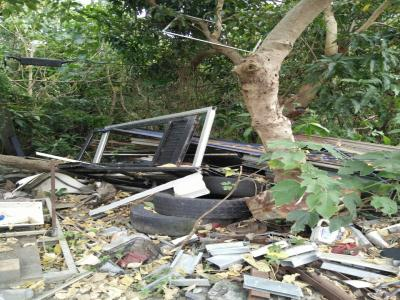tire: (129, 202, 220, 236), (153, 192, 252, 221), (202, 172, 266, 198)
